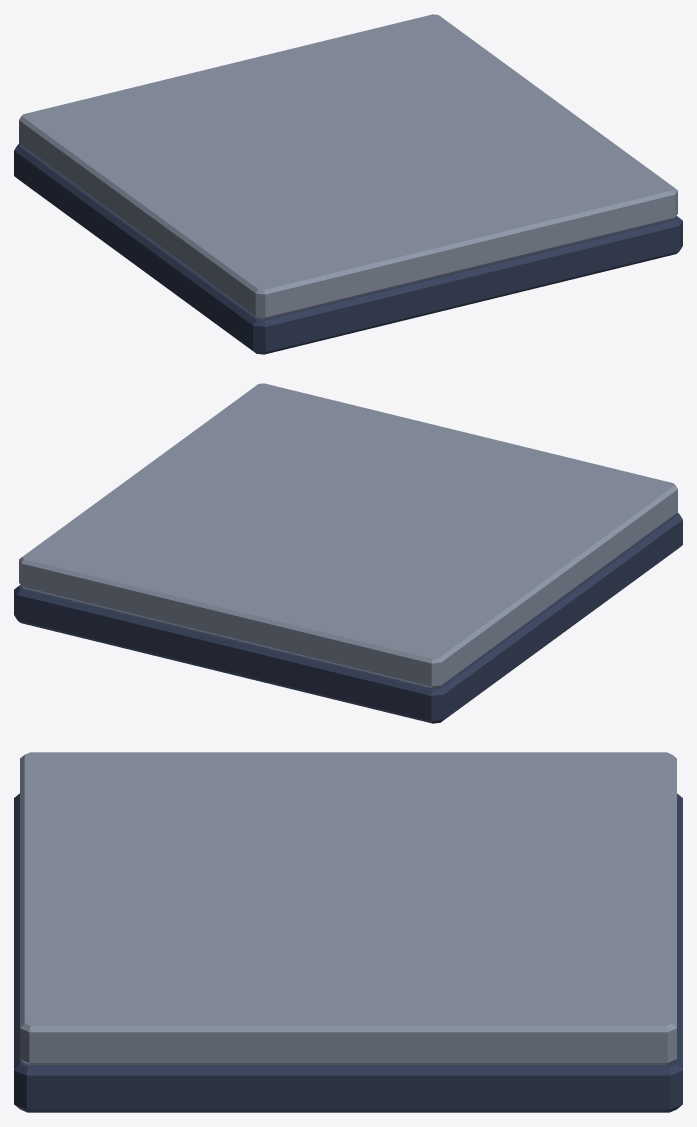
File: floor-small.glb
3 views of the same model, one above another, from view 1: azimuth 30°, elevation 25°; view 2: azimuth 150°, elevation 25°; view 3: azimuth 270°, elevation 25° (orthographic). The views are drawn at different scales.
Visible parts, largest first — view 1: floor-small__body; view 2: floor-small__body; view 3: floor-small__body.
Boxes of the visible parts, <box> form: floor-small__body: <box>14,14,682,354</box>; floor-small__body: <box>14,383,682,723</box>; floor-small__body: <box>14,752,682,1112</box>.
Size of the model in its own units: 1 by 0.14 by 1.
